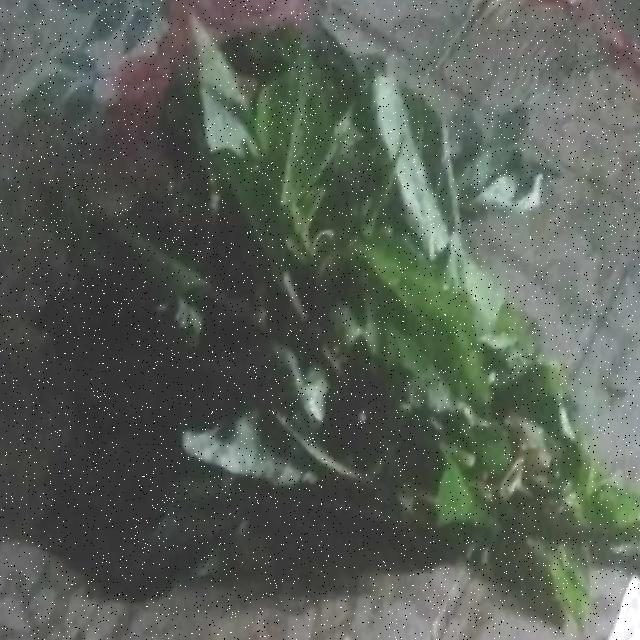Spinach: (100, 34, 617, 631)
